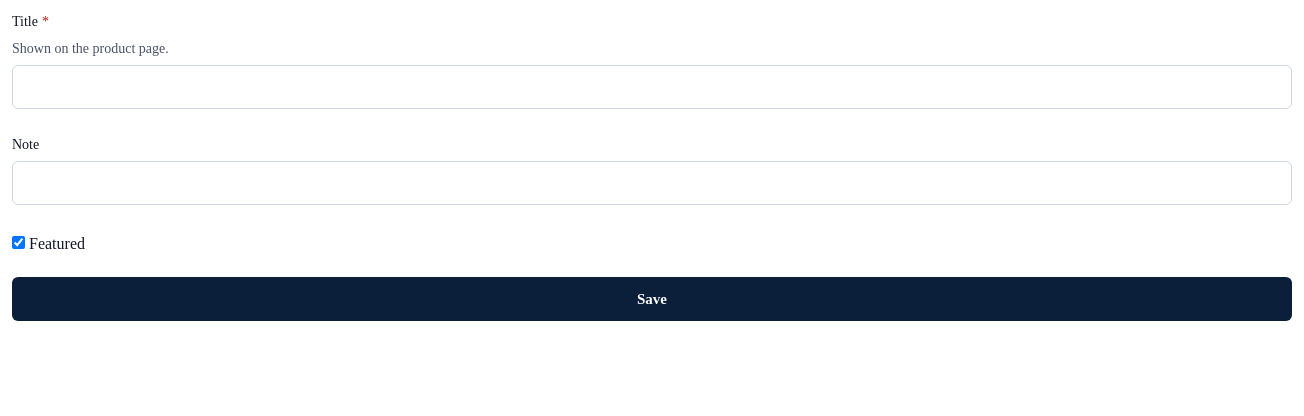
Test: other failures › shows an unexpected failure's message, which carries its reference
Click the button "Save" at (652, 299), box [12,277,1292,321]
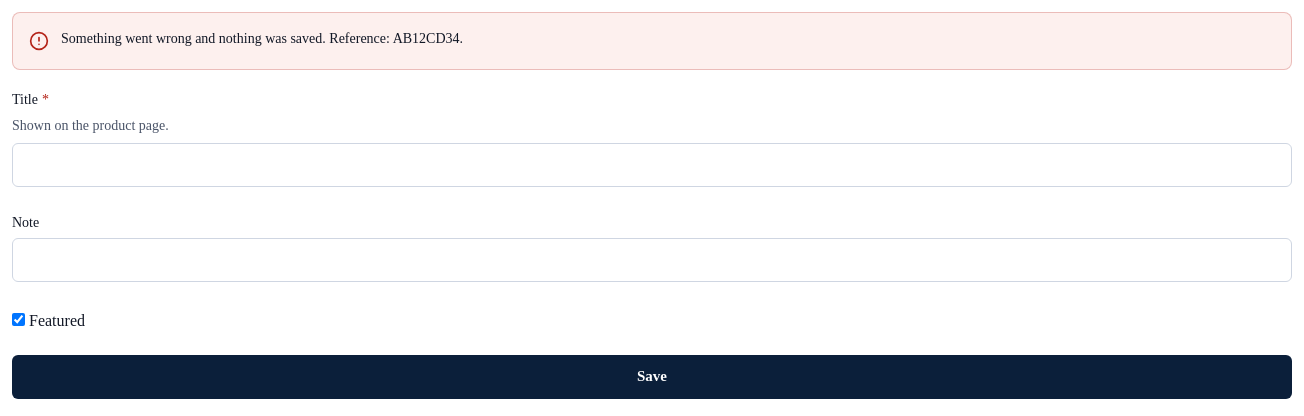
Expected: the message shows "Reference: AB12CD34", [61,31,463,46]
